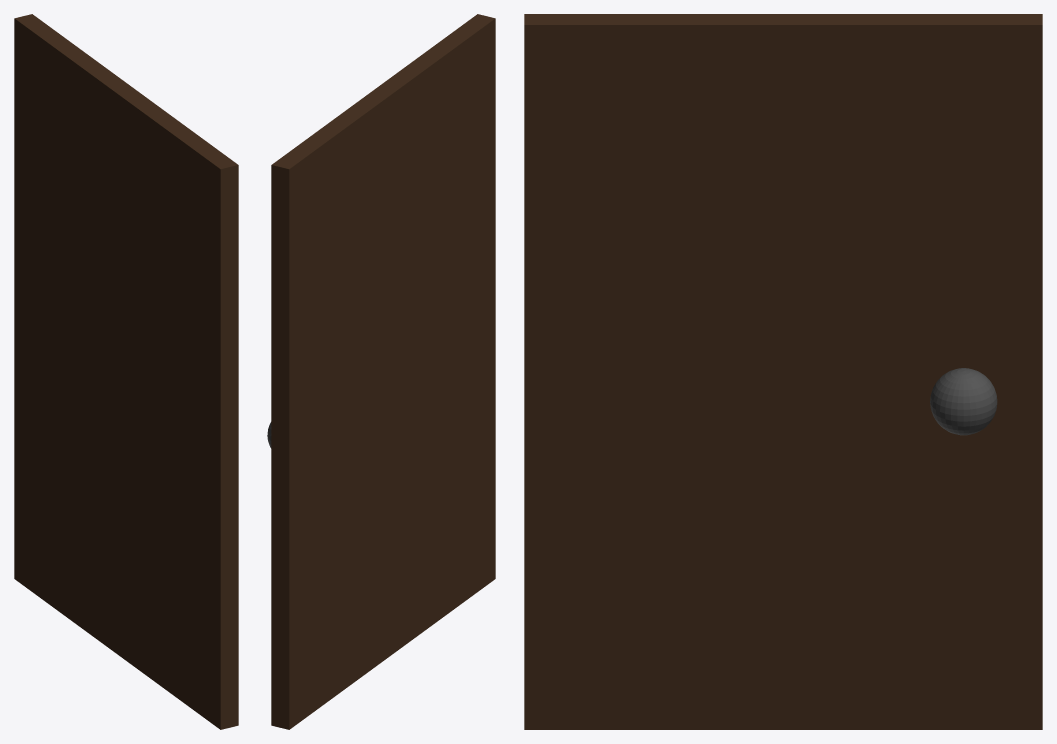
Rendered from porta.glb.
The picture shows the model from 3 angles, left to right: view 1: azimuth 30°, elevation 25°; view 2: azimuth 150°, elevation 25°; view 3: azimuth 270°, elevation 25°; orthographic projection. The views are drawn at different scales.
Parts seen in each view (by area): view 1: Cube; view 2: Cube; view 3: Cube.
Boxes of the visible parts, <box> form: Cube: <box>14,14,238,729</box>; Cube: <box>267,14,495,729</box>; Cube: <box>524,14,1042,729</box>.
Size of the model in its own units: 0.2789 by 3 by 2.
